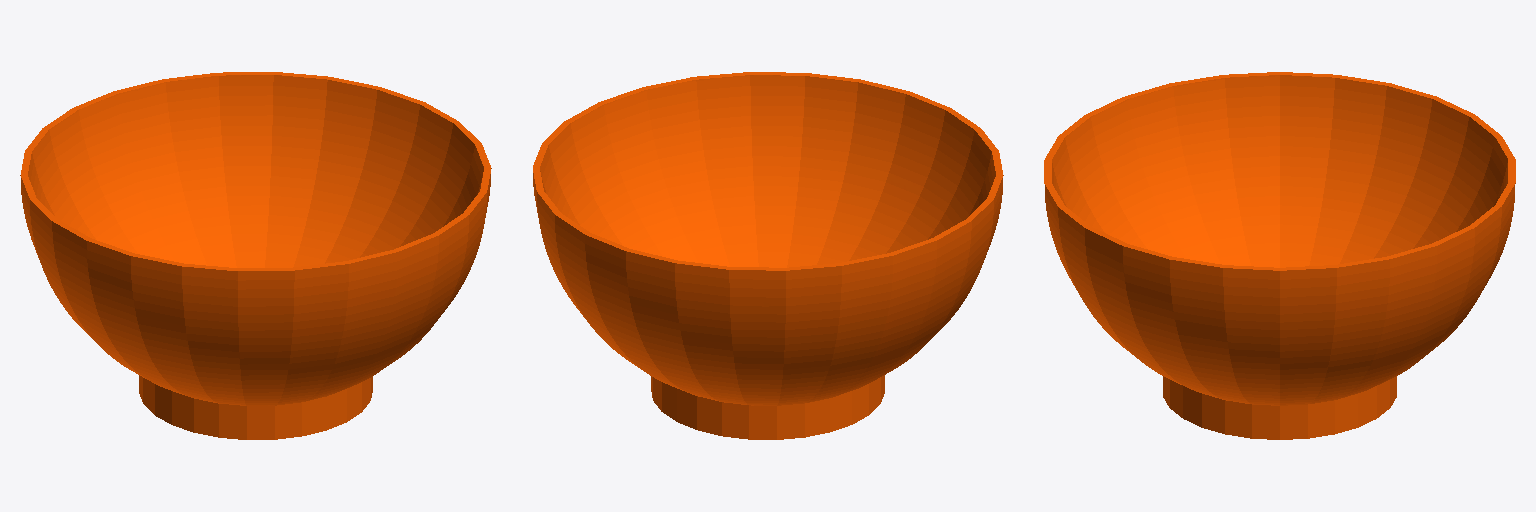
robot.urdf — bowl:
<?xml version="1.0" ?>
<robot name="bowl">
   <material name="obj_color">
      <color rgba="1.0 0.423529411765 0.0392156862745 1.0"/>
   </material>
   <link name="top">
      <inertial>
         <origin rpy="0.0009131913305299983 0.0009239238705120135 0.001422070955105119" xyz="-8.476139379049355e-09 1.166822041233611e-05 -0.007033160803107561"/>
         <mass value="0.5457948456539586"/>
         <inertia ixx="0.0009239238705101411" ixy="-2.281601720137427e-10" ixz="1.212007217609351e-09" iyy="0.0009131914865005216" iyz="-2.817228130635142e-07" izz="0.001422070799136468"/>
      </inertial>
      <visual>
         <origin rpy="0 0 0" xyz="0 0 0"/>
         <geometry>
            <mesh filename="top_watertight_tiny.stl" scale="1 1 1"/>
         </geometry>
         <material name="obj_color"/>
      </visual>
      <collision>
         <origin rpy="0 0 0" xyz="0 0 0"/>
         <geometry>
            <mesh filename="top_watertight_tiny.obj" scale="1 1 1"/>
         </geometry>
      </collision>
   </link>
   <link name="bottom">
      <inertial>
         <origin rpy="1.633333333194242e-08 1.633333333194243e-08 1.633333333357667e-08" xyz="0.3464080000000008 0.3464080000000008 0.3464080000000008"/>
         <mass value="0.0009800000000000017"/>
         <inertia ixx="1.633333333248717e-08" ixy="5.447480642029219e-19" ixz="5.447480642029219e-19" iyy="1.633333333248717e-08" iyz="5.447480642029219e-19" izz="1.633333333248717e-08"/>
      </inertial>
      <visual>
         <origin rpy="0 0 0" xyz="0 0 0"/>
         <geometry>
            <mesh filename="bottom_watertight_tiny.stl" scale="1 1 1"/>
         </geometry>
         <material name="obj_color"/>
      </visual>
   </link>
   <link name="world"/>
   <joint name="world_to_base" type="fixed">
      <origin xyz="0 0 0"/>
      <axis xyz="0 0 0"/>
      <parent link="world"/>
      <child link="bottom"/>
   </joint>
   <joint name="rotation" type="revolute">
      <origin xyz="0 0 0"/>
      <axis xyz="0 0 -1"/>
      <parent link="bottom"/>
      <child link="top"/>
      <dynamics damping="1.0" friction="1.0"/>
      <limit effort="0.1" velocity="0.1" lower="0" upper="0.001"/>
   </joint>
</robot>

--- Facts derived from the render (not from the file) ---
The picture shows the robot from 3 angles, left to right: view 1: azimuth 30°, elevation 25°; view 2: azimuth 150°, elevation 25°; view 3: azimuth 270°, elevation 25°; orthographic projection.
Robot: bowl — 3 links, 2 joints (1 revolute, 1 fixed); root link world; default pose: all joints at 0.
Visible links, largest first — view 1: top; view 2: top; view 3: top.
Boxes of the visible links, x1,y1,x2,y2 form: top: [20, 72, 491, 439]; top: [533, 72, 1003, 439]; top: [1044, 72, 1515, 439].
Bounding box of the posed robot: 0.1489 × 0.149 × 0.0766 m (x, y, z).
1 mesh visuals loaded from 2 distinct referenced files (1 binary STL); not drawn: 1 (reference not matched to a file when rendering).
